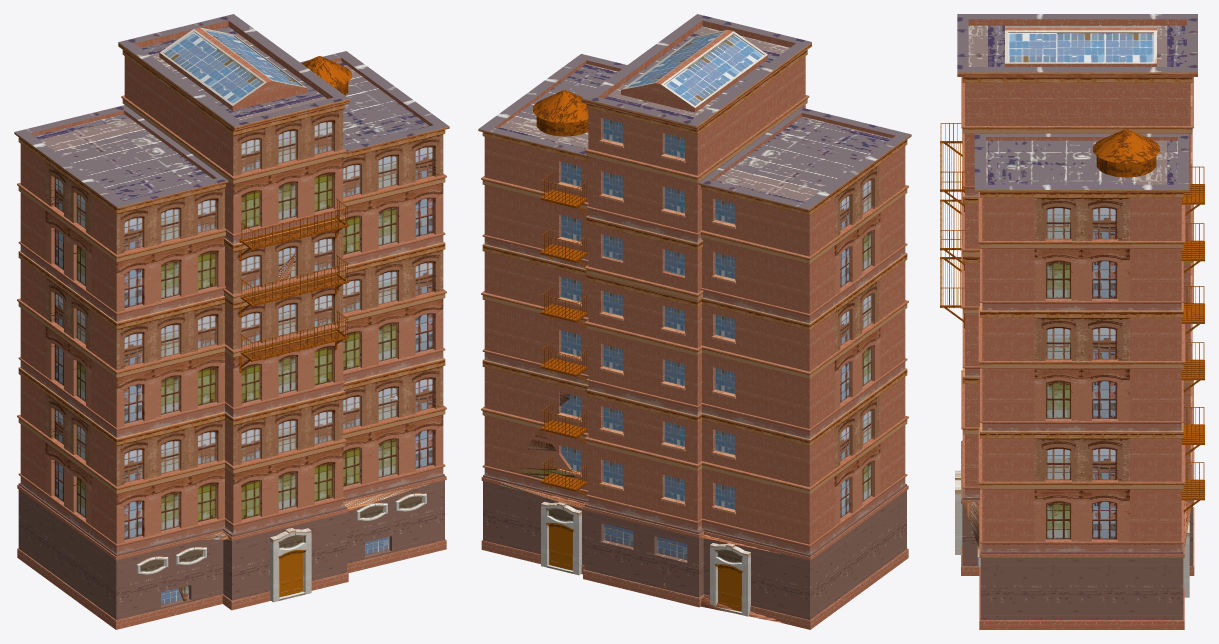
The model's file is A02_Destr.FBX.
3 views of the same model, side by side, from view 1: azimuth 30°, elevation 25°; view 2: azimuth 150°, elevation 25°; view 3: azimuth 270°, elevation 25° (orthographic). The views are drawn at different scales.
Parts seen in each view (by area): view 1: K_Building_A02_00_Part_5, K_Building_A02_00_Part_15, K_Building_A02_00_Part_11, K_Building_A02_00_Part_2, K_Building_A02_00_Part_7, K_Building_A02_00_Part_6, K_Building_A02_00_Part_8, K_Building_A02_00_Part_12, K_Building_A02_00_Part_14, K_Building_A02_00_Part_13, K_Building_A02_00_Part_1, K_Building_A02_00_Part_3; view 2: K_Building_A02_00_Part_15, K_Building_A02_00_Part_6, K_Building_A02_00_Part_14, K_Building_A02_00_Part_9, K_Building_A02_00_Part_13, K_Building_A02_00_Part_4, K_Building_A02_00_Part_5, K_Building_A02_00_Part_2, K_Building_A02_00_Part_8, K_Building_A02_00_Part_1, K_Building_A02_00_Part_3, K_Building_A02_00_Part_10 (+1 smaller); view 3: K_Building_A02_00_Part_1, K_Building_A02_00_Part_8, K_Building_A02_00_Part_11, K_Building_A02_00_Part_5, K_Building_A02_00_Part_7, K_Building_A02_00_Part_13, K_Building_A02_00_Part_3, K_Building_A02_00_Part_9, K_Building_A02_00_Part_4, K_Building_A02_00_Part_6, K_Building_A02_00_Part_2.
Boxes of the visible parts, x1,y1,x2,y2 form: K_Building_A02_00_Part_5: (68,56,366,313); K_Building_A02_00_Part_15: (17,257,216,607); K_Building_A02_00_Part_11: (208,397,446,565); K_Building_A02_00_Part_2: (18,252,330,476); K_Building_A02_00_Part_7: (269,186,446,402); K_Building_A02_00_Part_6: (14,23,197,254); K_Building_A02_00_Part_8: (282,49,449,188); K_Building_A02_00_Part_12: (175,511,338,615); K_Building_A02_00_Part_14: (17,442,188,629); K_Building_A02_00_Part_13: (122,14,285,161); K_Building_A02_00_Part_1: (413,366,446,415); K_Building_A02_00_Part_3: (319,553,390,583); K_Building_A02_00_Part_15: (715,271,908,536); K_Building_A02_00_Part_6: (618,84,862,328); K_Building_A02_00_Part_14: (661,464,908,629); K_Building_A02_00_Part_9: (507,210,724,398); K_Building_A02_00_Part_13: (564,54,808,310); K_Building_A02_00_Part_4: (487,398,715,533); K_Building_A02_00_Part_5: (651,14,911,251); K_Building_A02_00_Part_2: (656,244,907,458); K_Building_A02_00_Part_8: (478,47,653,237); K_Building_A02_00_Part_1: (481,231,554,503); K_Building_A02_00_Part_3: (481,502,666,591); K_Building_A02_00_Part_10: (544,353,646,420); K_Building_A02_00_Part_1: (978,289,1204,581); K_Building_A02_00_Part_8: (974,67,1204,302); K_Building_A02_00_Part_11: (955,377,1161,629); K_Building_A02_00_Part_5: (940,14,1077,211); K_Building_A02_00_Part_7: (940,185,1072,438); K_Building_A02_00_Part_13: (1071,14,1204,189); K_Building_A02_00_Part_3: (961,516,1194,629); K_Building_A02_00_Part_9: (1181,204,1204,377); K_Building_A02_00_Part_4: (969,380,1204,546); K_Building_A02_00_Part_6: (1096,14,1197,89); K_Building_A02_00_Part_2: (940,192,1192,377).
Bounding box in the file's own units: 1778 × 2552 × 1184.
